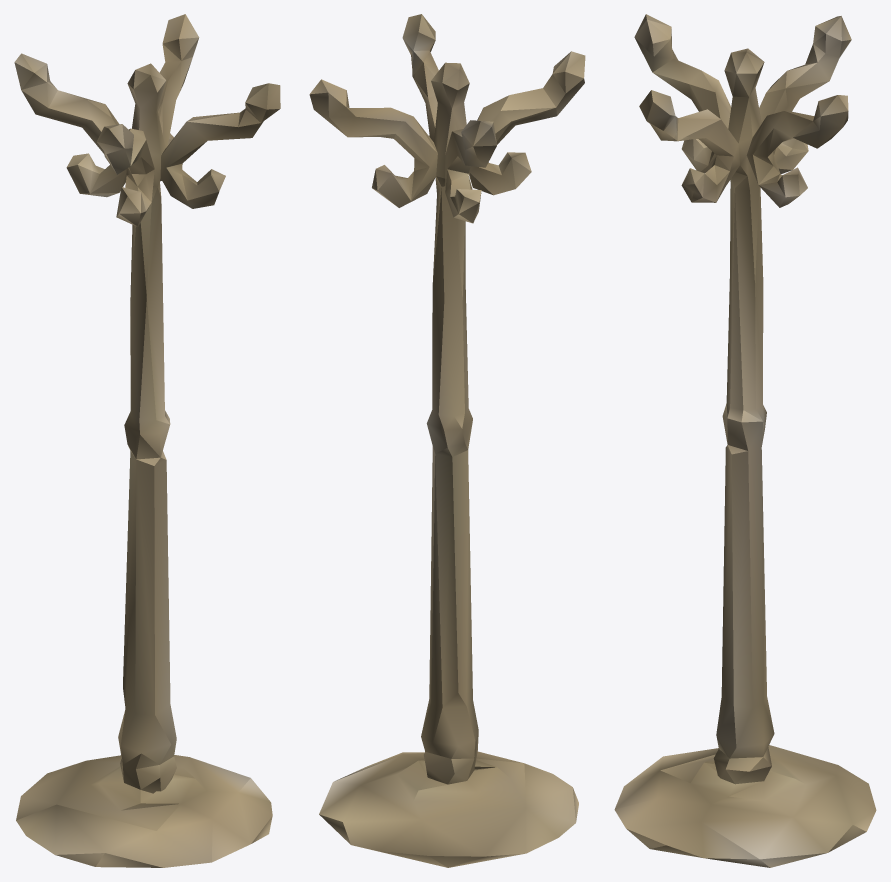
File: Hanger01.fbx
The picture shows the model from 3 angles, left to right: view 1: azimuth 30°, elevation 25°; view 2: azimuth 150°, elevation 25°; view 3: azimuth 270°, elevation 25°; orthographic projection.
Parts seen in each view (by area): view 1: Hanger01; view 2: Hanger01; view 3: Hanger01.
Boxes of the visible parts, x1=… form: Hanger01: x1=14, y1=14, x2=280, y2=867; Hanger01: x1=309, y1=14, x2=585, y2=867; Hanger01: x1=614, y1=14, x2=876, y2=867.
Bounding box in the file's own units: 57.78 × 185 × 57.29.
